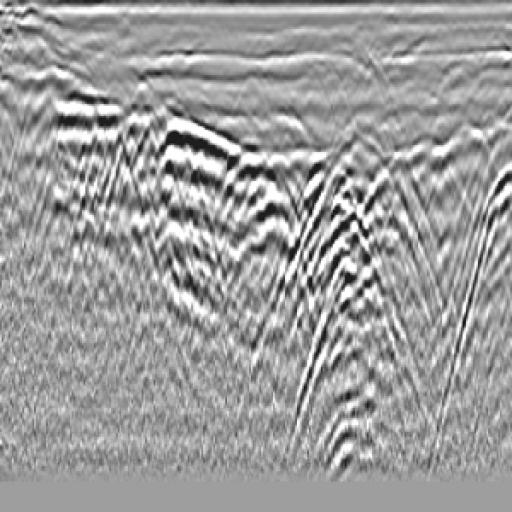metalic: (194, 139, 336, 326)
